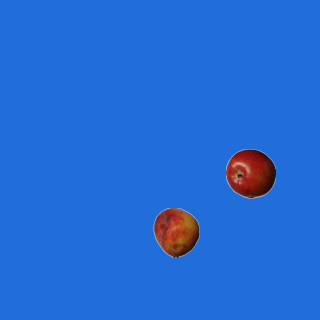Apple Braeburn: (225, 148, 275, 198)
Peach: (151, 207, 201, 257)
